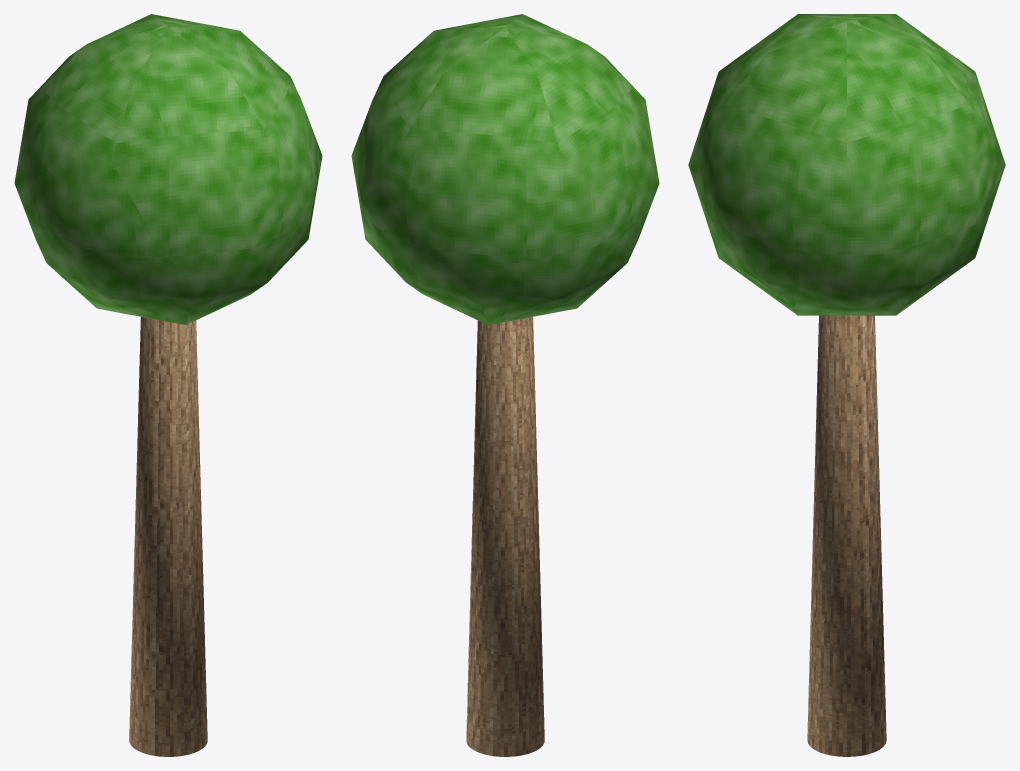
File: tree.glb
3 views of the same model, side by side, from view 1: azimuth 30°, elevation 25°; view 2: azimuth 150°, elevation 25°; view 3: azimuth 270°, elevation 25° (orthographic).
Parts seen in each view (by area): view 1: Icosphere, Cylinder; view 2: Icosphere, Cylinder; view 3: Icosphere, Cylinder.
Boxes of the visible parts, box(x1,y1,x2,y2) form: Icosphere: box(14, 14, 322, 324); Cylinder: box(129, 317, 207, 756); Icosphere: box(351, 14, 659, 324); Cylinder: box(466, 317, 544, 756); Icosphere: box(688, 14, 1005, 315); Cylinder: box(807, 315, 886, 756).
Bounding box in the file's own units: 7.61 × 20 × 8.
Materials: 2 (2 with a texture image).
